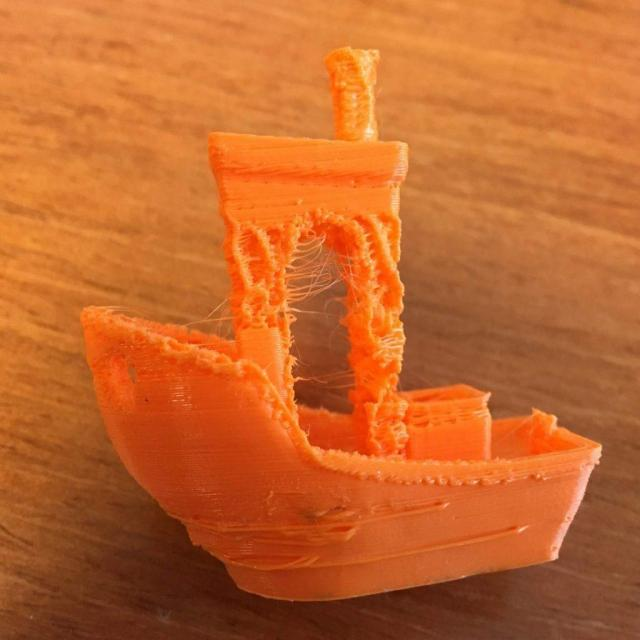cracks: (165, 488, 547, 579), (365, 213, 409, 468), (223, 207, 281, 350), (327, 39, 385, 145)
stringing: (284, 213, 359, 437)
